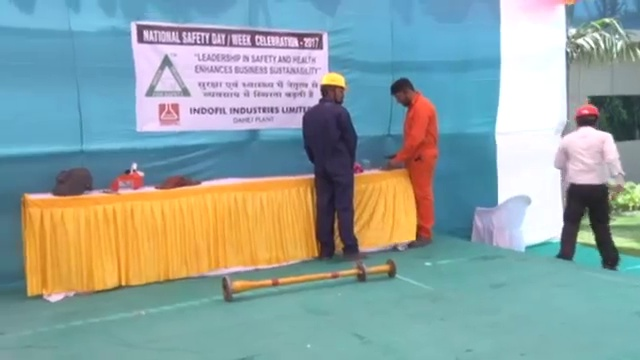helmet: (319, 72, 347, 90), (573, 103, 600, 115)
helmet_off: (391, 75, 420, 109)
helmet_on: (318, 72, 347, 105), (570, 100, 600, 129)
person: (301, 73, 368, 260), (555, 102, 625, 272), (386, 75, 441, 250)
